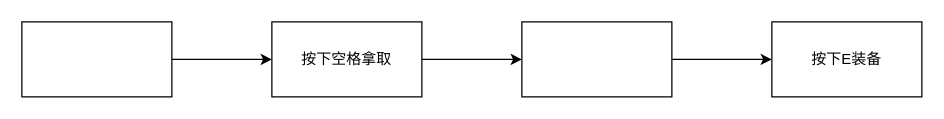
Image size: 944x119. Some labels were removed from this diagram. The centre of each missing label's shape, as x and y in pixels:
"玩家Senor检测到物品" goes at (96,59).
"玩家拿着这个东西" goes at (596,59).
